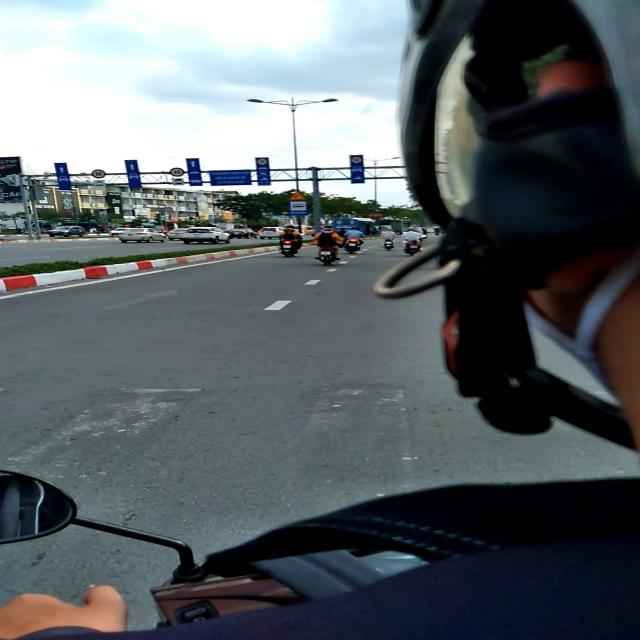P.127: (169, 167, 185, 177), (91, 169, 106, 179), (350, 156, 362, 164), (256, 158, 268, 165)
R.434: (289, 200, 308, 216)
W.201b: (289, 191, 307, 200)
